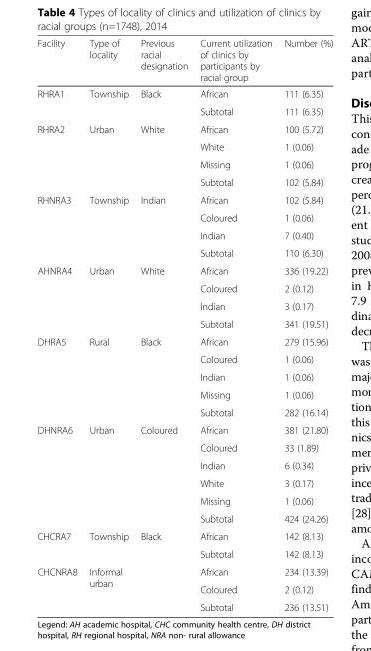table: (36, 37, 332, 612)
table column: (193, 37, 277, 612), (133, 37, 193, 612), (277, 37, 332, 612), (82, 37, 133, 612), (36, 37, 82, 612)
table column header: (36, 37, 332, 85)
table row: (36, 37, 332, 85), (36, 119, 332, 137), (36, 137, 332, 155), (36, 155, 332, 173), (36, 190, 332, 208), (36, 208, 332, 226), (36, 243, 332, 261), (36, 261, 332, 279), (36, 279, 332, 297), (36, 314, 332, 332), (36, 332, 332, 350), (36, 367, 332, 385), (36, 385, 332, 403), (36, 420, 332, 438), (36, 438, 332, 456), (36, 456, 332, 474), (36, 491, 332, 509), (36, 509, 332, 527), (36, 544, 332, 562), (36, 562, 332, 580), (36, 85, 332, 102), (36, 102, 332, 119), (36, 173, 332, 190), (36, 226, 332, 243), (36, 297, 332, 314), (36, 350, 332, 367), (36, 403, 332, 420), (36, 474, 332, 491), (36, 527, 332, 544), (36, 580, 332, 597), (36, 597, 332, 612)
table spanning cell: (36, 420, 82, 527), (133, 119, 193, 190), (133, 190, 193, 261), (133, 261, 193, 332), (133, 332, 193, 403), (133, 420, 193, 491), (36, 332, 82, 420), (82, 119, 133, 190), (82, 190, 133, 261), (82, 261, 133, 332), (82, 332, 133, 403), (82, 420, 133, 491), (36, 119, 82, 190), (36, 190, 82, 261), (36, 261, 82, 332), (82, 562, 133, 612), (36, 562, 82, 612), (133, 527, 193, 562), (133, 85, 193, 119), (82, 527, 133, 562), (82, 85, 133, 119), (36, 527, 82, 562), (36, 85, 82, 119)
